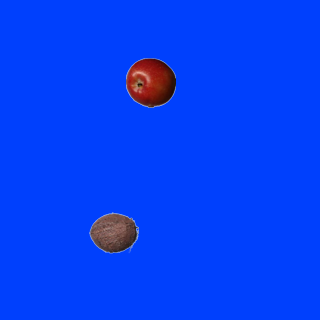Apple Braeburn: (125, 57, 175, 107)
Cocos: (88, 207, 138, 257)
